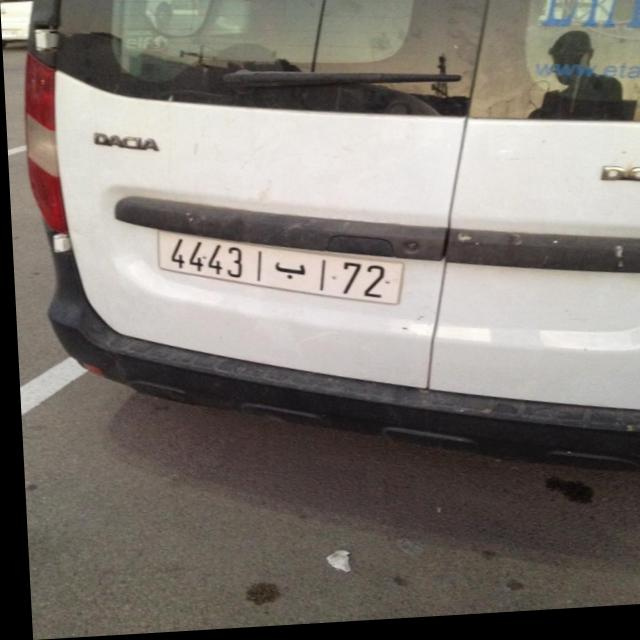License-Plate: (156, 233, 400, 309)
